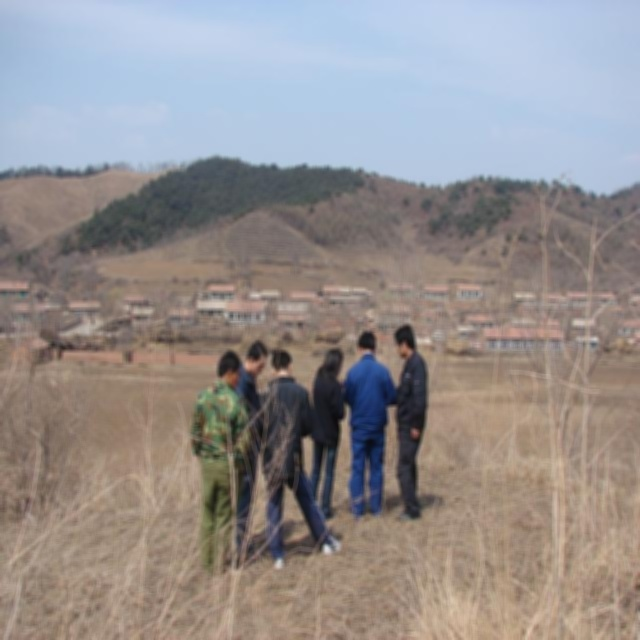Sin_Casco_Mascarrilla: (217, 348, 242, 386), (394, 325, 418, 358), (358, 332, 379, 360), (272, 352, 293, 379)
